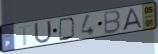4: (80, 13, 96, 38)
A: (122, 7, 143, 32)
B: (103, 9, 122, 36)
D: (59, 17, 77, 42)
T: (17, 24, 33, 47)
U: (33, 19, 54, 45)
